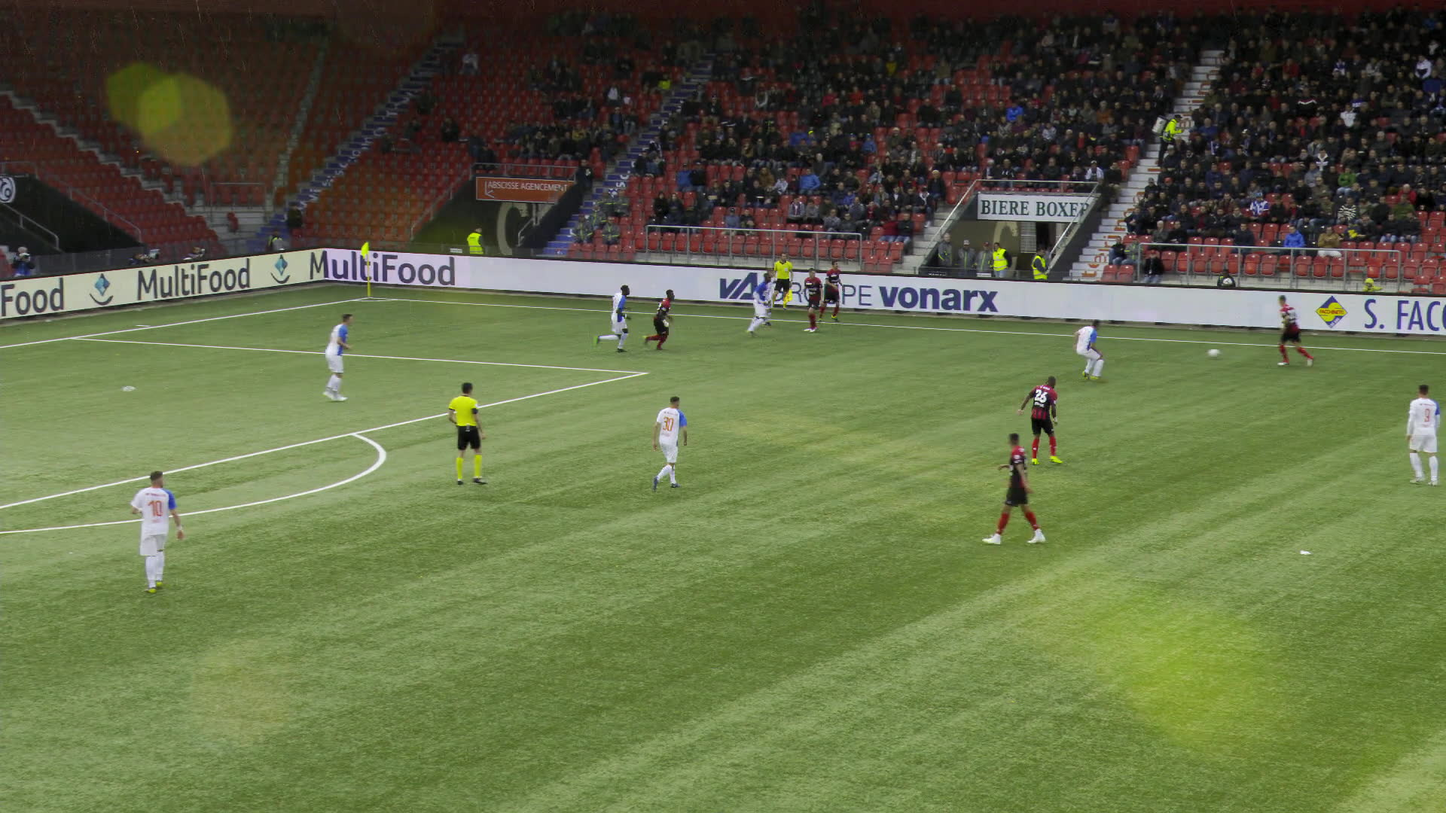ball: (1207, 349, 1219, 357)
player: (134, 471, 187, 595), (993, 430, 1048, 545), (1016, 375, 1066, 465), (652, 395, 691, 490), (1406, 382, 1441, 486), (326, 315, 359, 400), (1065, 317, 1105, 382), (1281, 296, 1316, 368), (596, 284, 632, 352), (644, 289, 678, 349), (819, 260, 848, 323), (749, 273, 777, 336), (804, 269, 826, 333), (761, 267, 779, 327)
referee: (452, 383, 493, 486), (772, 252, 795, 311)
